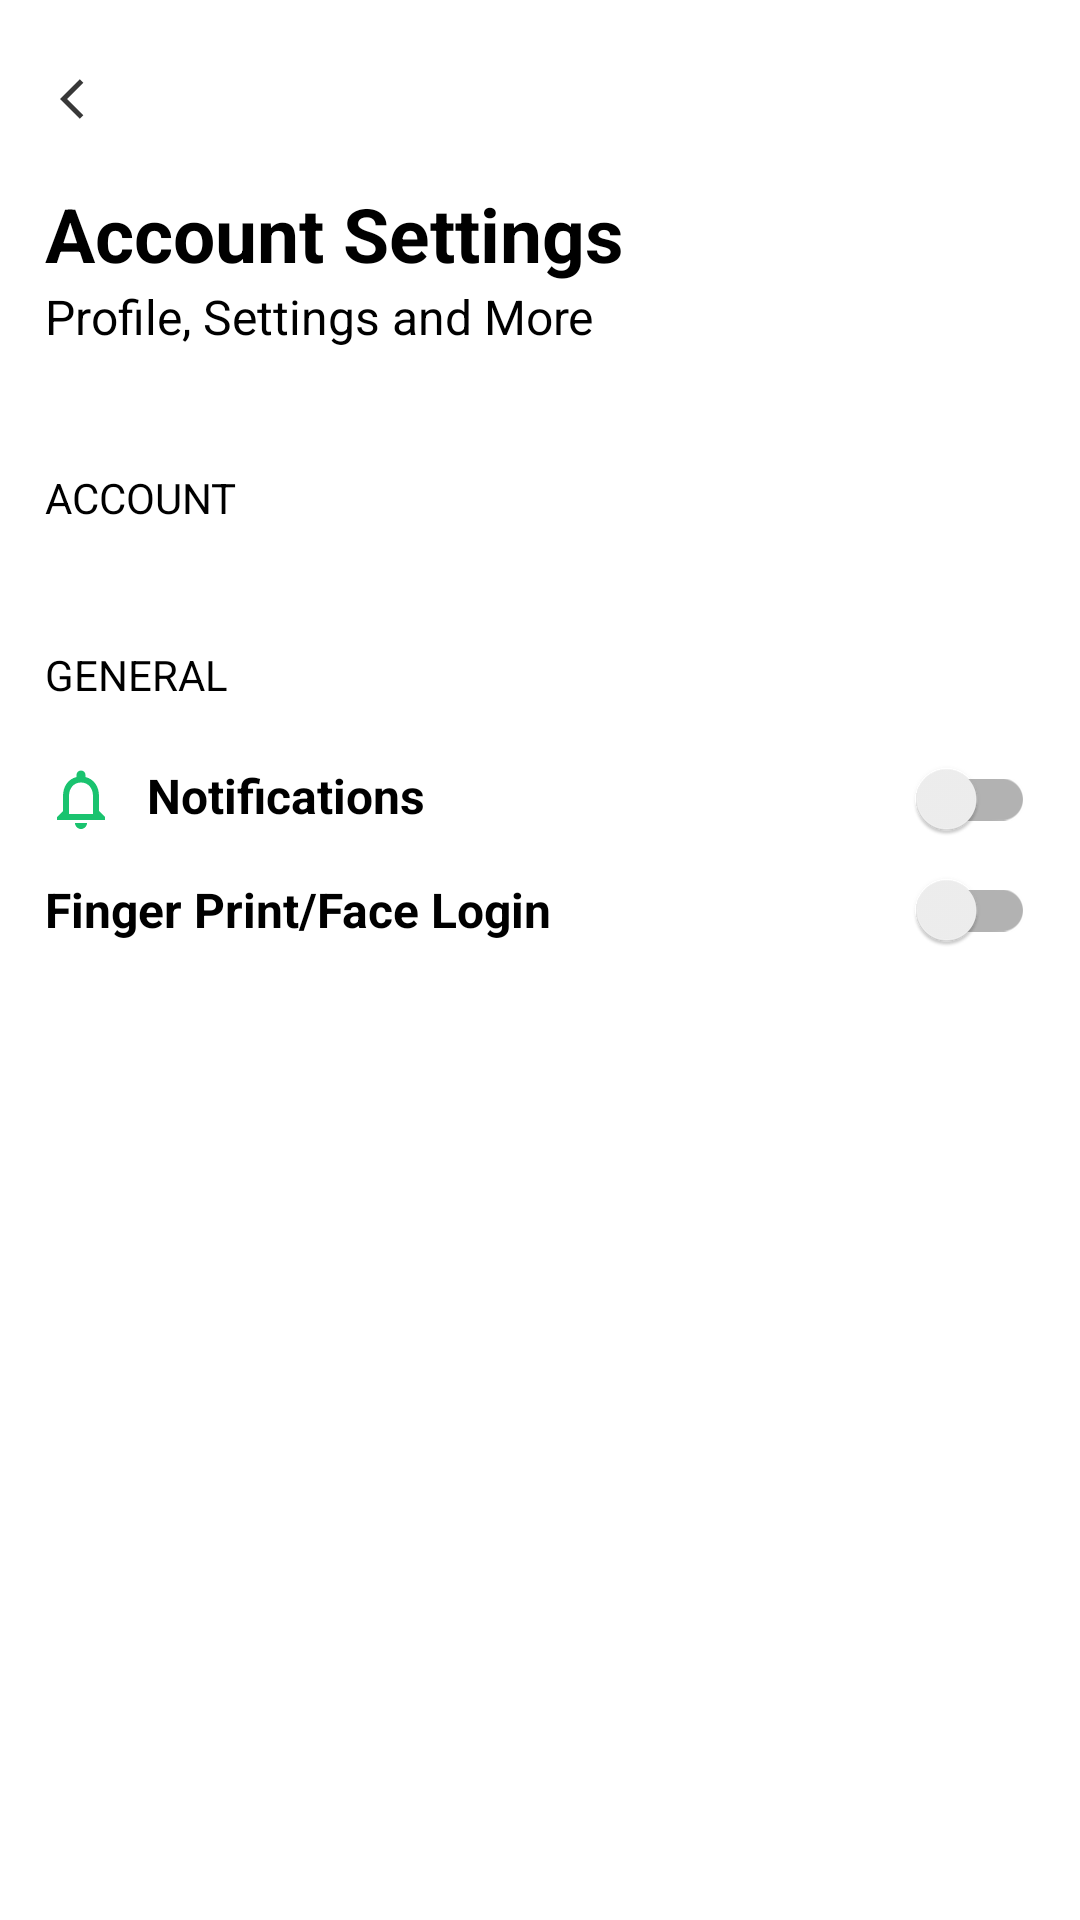

Where icons sit on this 1080×1920 app screen, as (x1, y1, x2, y2):
back arrow: (60, 79, 83, 119)
